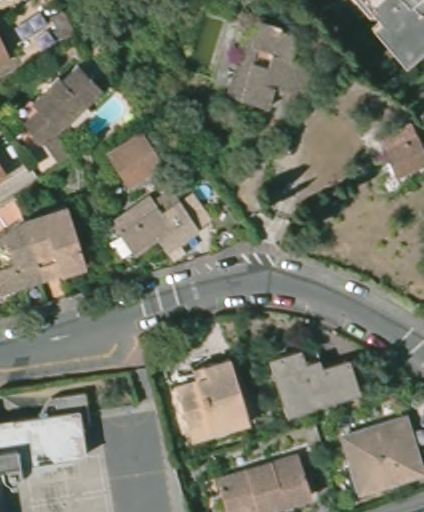pool: (82, 95, 130, 134), (190, 180, 213, 205)
